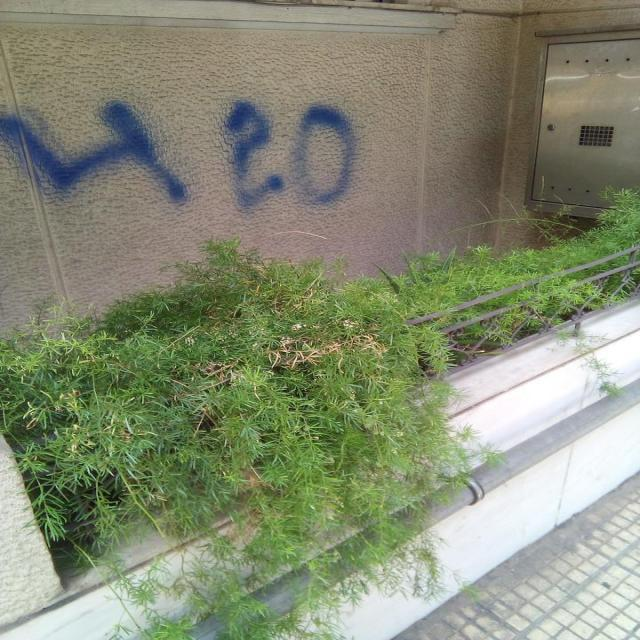nonspitting: (3, 100, 359, 210)
